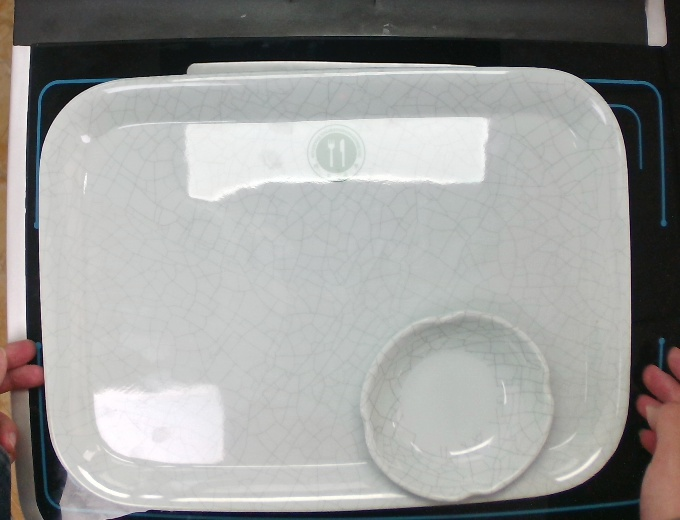JYsf-Ao_Yuan_Wan: (357, 311, 557, 505)
